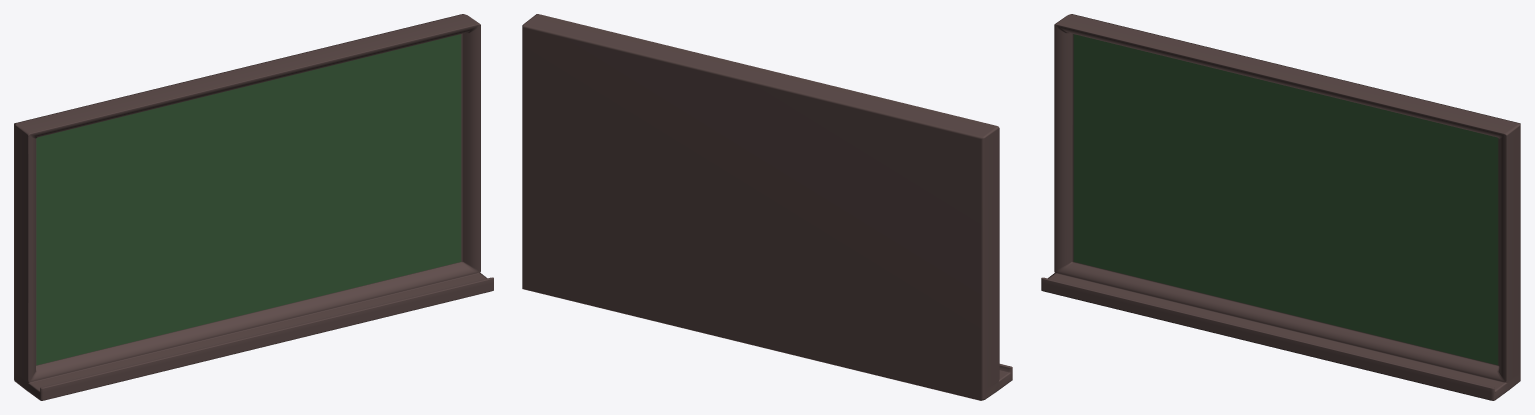
File: Elements_Blackboard.fbx
3 views of the same model, side by side, from view 1: azimuth 30°, elevation 25°; view 2: azimuth 150°, elevation 25°; view 3: azimuth 330°, elevation 25° (orthographic). The views are drawn at different scales.
Visible parts, largest first — view 1: Blackboard; view 2: Blackboard; view 3: Blackboard.
Part boxes in pixels (bbox=[...]): Blackboard: bbox=[14, 14, 493, 400]; Blackboard: bbox=[522, 14, 1012, 400]; Blackboard: bbox=[1041, 14, 1520, 400].
Size of the model in its own units: 15.39 by 8.35 by 1.74.
